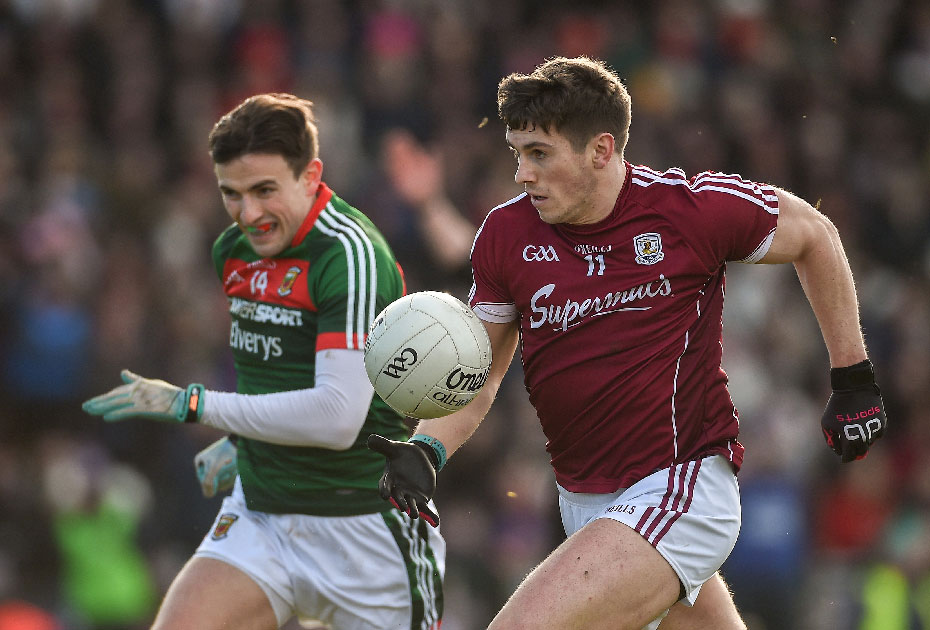ball: (349, 284, 496, 421)
player: (443, 54, 806, 611), (163, 68, 433, 605)
